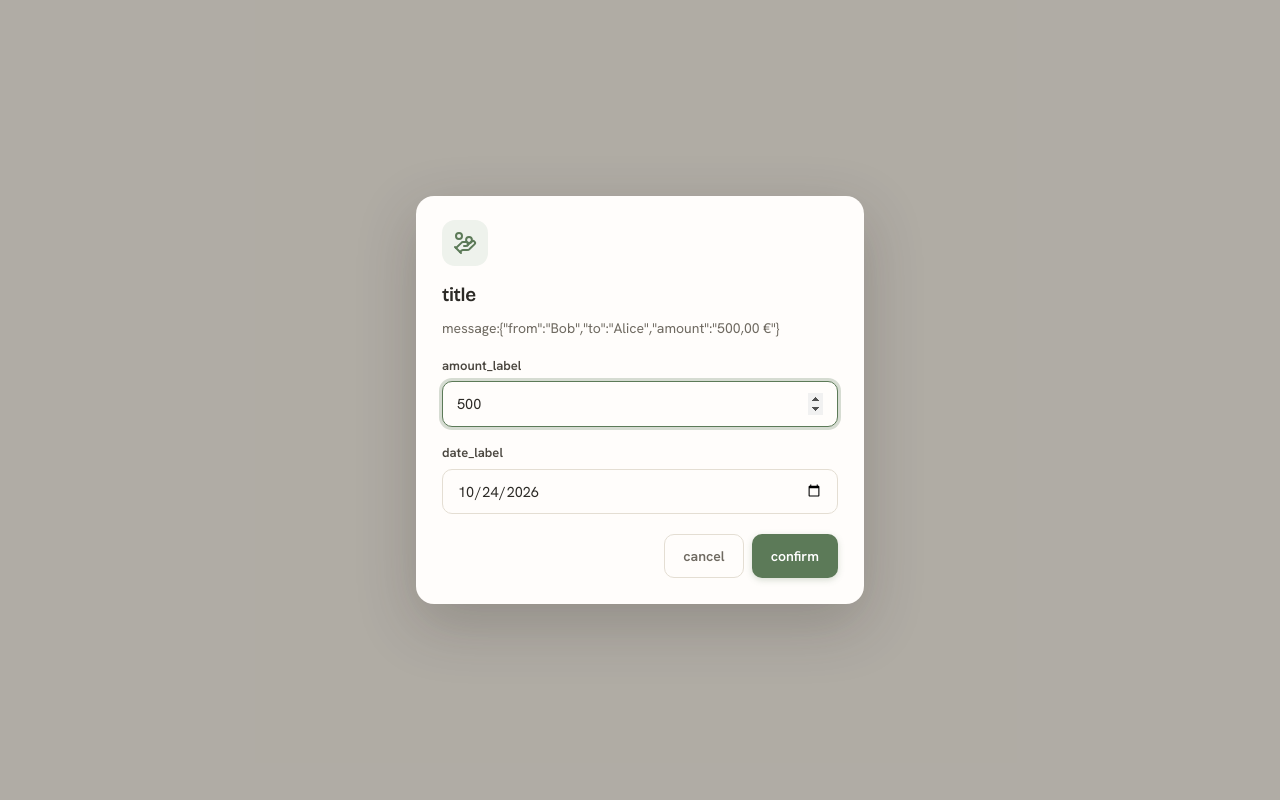
Test: SettleDebtModal › rejects a zero or negative amount
Replace the text in the number field labelled "amount_label" with "0" at (640, 404), box [442,381,838,427]
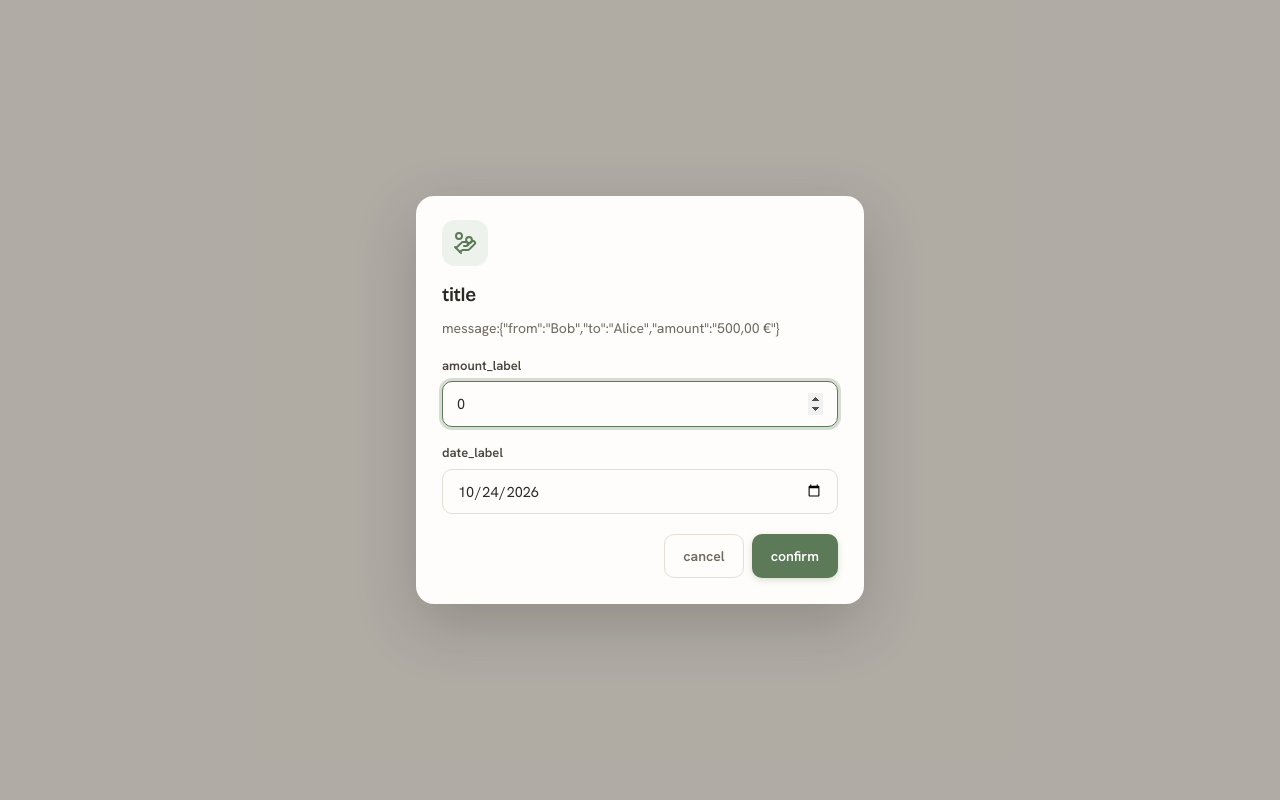
Click the button "confirm" at (795, 556), box [752,534,838,578]
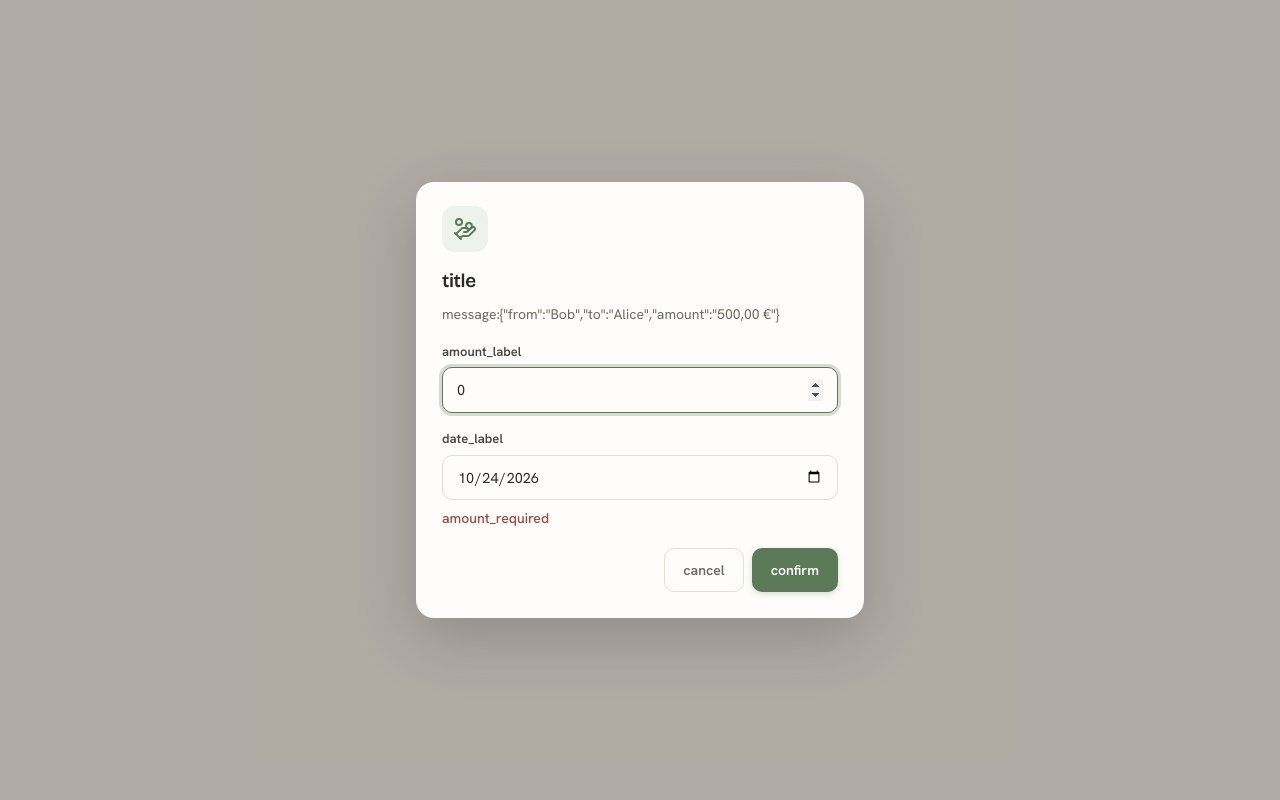
Check: the text "amount_required" is shown, box [442,509,549,527]
